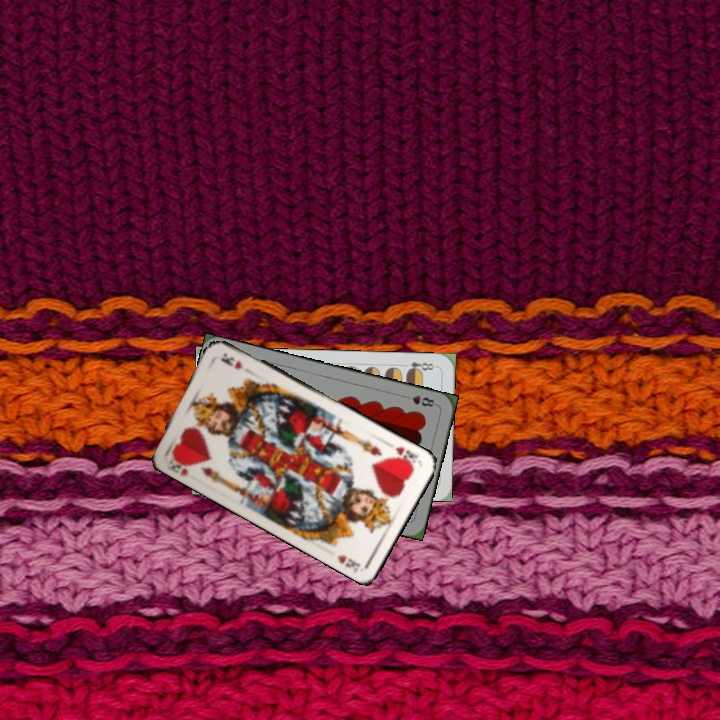E8: (399, 358, 439, 375)
H8: (399, 391, 439, 409)
HK: (163, 449, 194, 478), (392, 442, 421, 469)
